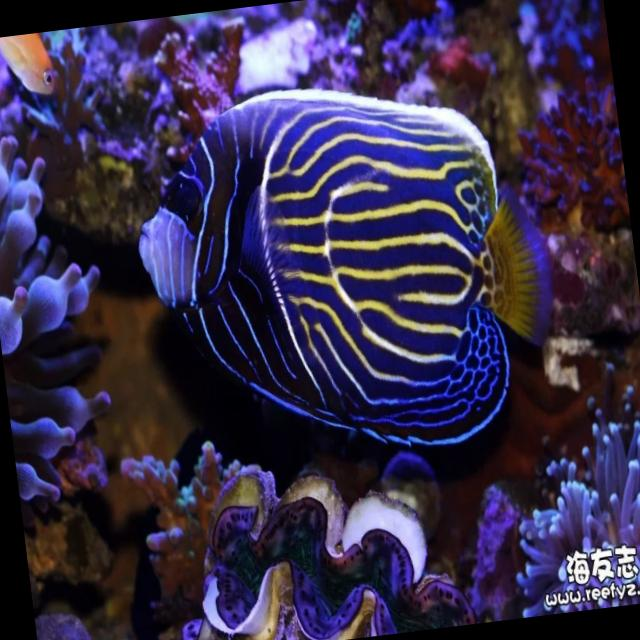AngelFish: (118, 58, 570, 487)
